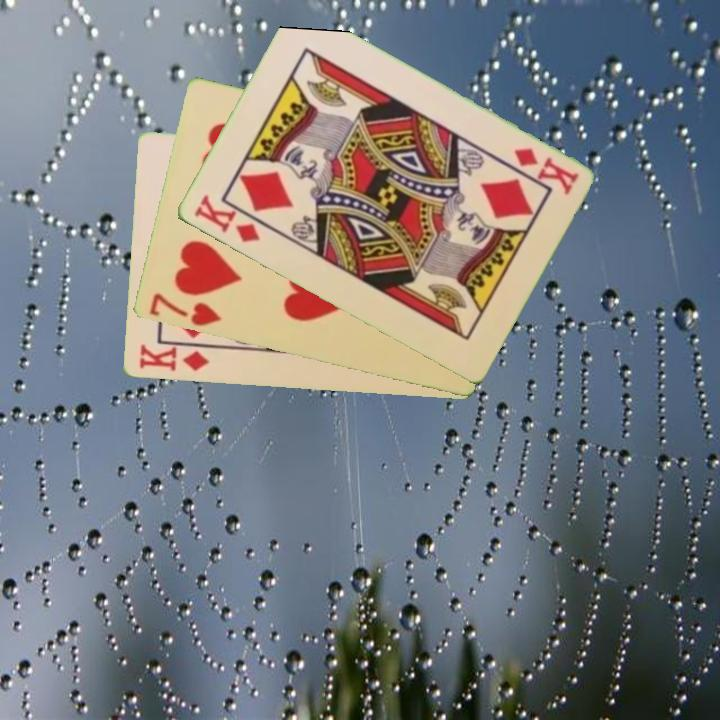7h: (145, 290, 225, 330)
Kd: (189, 191, 263, 246), (510, 144, 581, 197), (135, 341, 212, 375)
